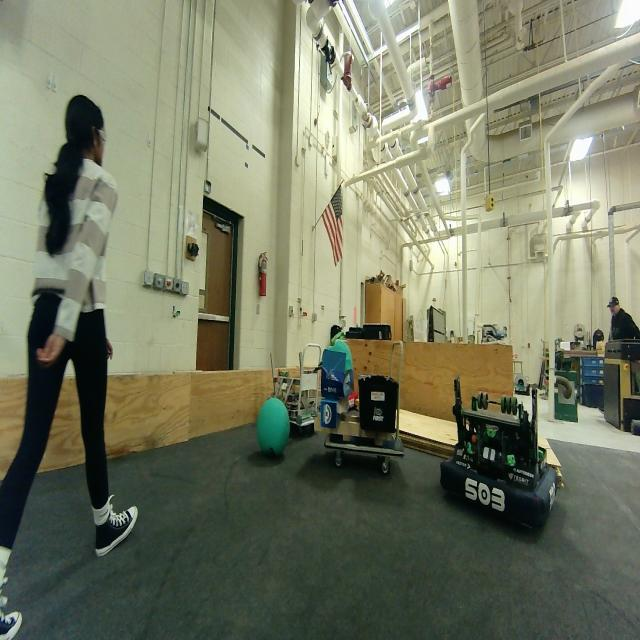algae: (257, 397, 291, 458)
